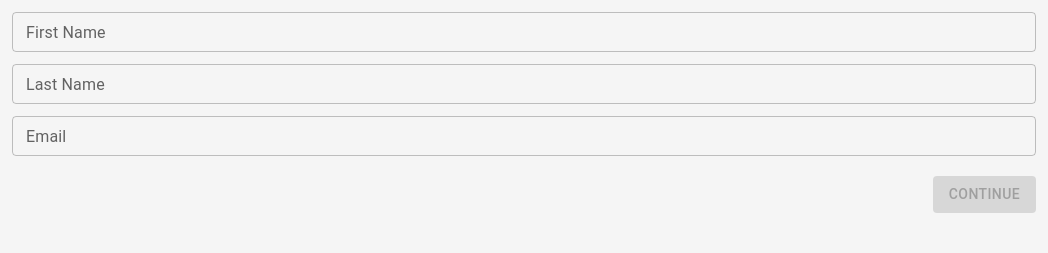
ContactSection › shows error for invalid email format
The width and height of the screenshot is (1048, 253).
Type "invalid-email" into the field labelled "Email" at [524, 136], box [12,116,1036,156]
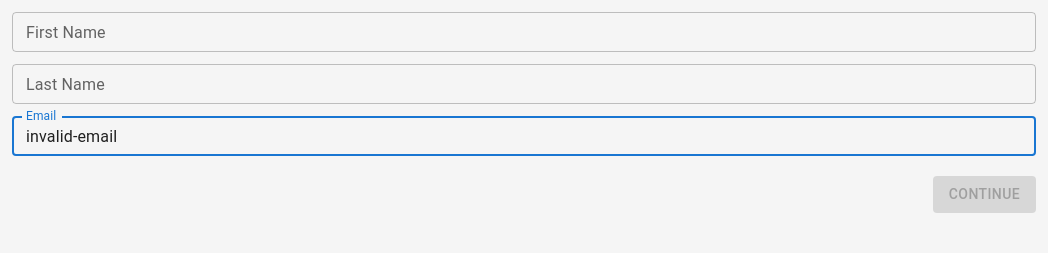
Press Tab
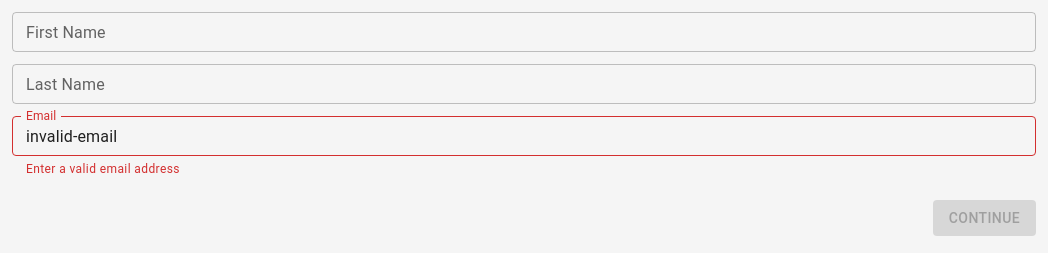
Expected: the text "Enter a valid email address" is shown, [26,162,180,176]
